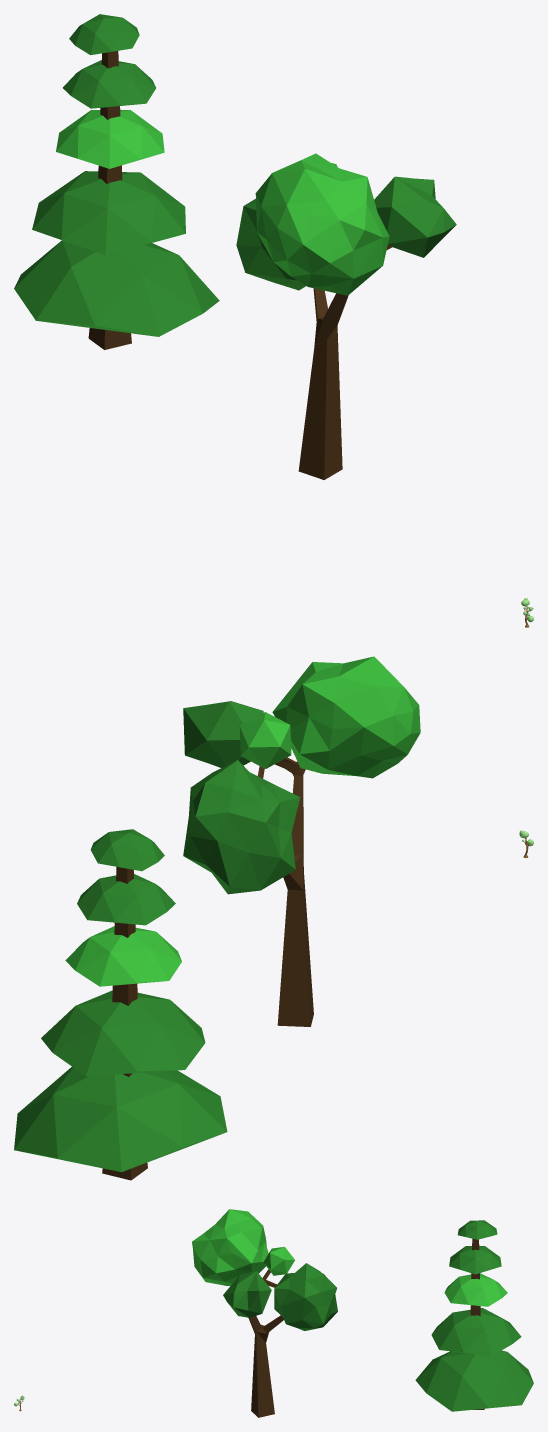
The model's file is tree.glb.
3 views of the same model, one above another, from view 1: azimuth 30°, elevation 25°; view 2: azimuth 150°, elevation 25°; view 3: azimuth 270°, elevation 25° (orthographic). The views are drawn at different scales.
Visible parts, largest first — view 1: Icosphere.005, Icosphere.004, Icosphere.006, Cube, Icosphere.007, Icosphere.003, Icosphere.008, Icosphere.001, Icosphere.009, PLANE; view 2: Icosphere.005, Icosphere.004, Icosphere.001, Icosphere.006, Cube, Icosphere.007, Icosphere.003, Icosphere.008, Icosphere.002, Icosphere.009, PLANE; view 3: Icosphere.005, Icosphere.004, Icosphere.001, Icosphere.006, Cube, Icosphere.003, Icosphere.007, Icosphere.008, Icosphere.002, Icosphere.009, PLANE.
Boxes of the visible parts, x1=… form: Icosphere.005: x1=14, y1=240, x2=219, y2=336; Icosphere.004: x1=255, y1=153, x2=389, y2=295; Icosphere.006: x1=32, y1=171, x2=185, y2=255; Cube: x1=298, y1=245, x2=392, y2=479; Icosphere.007: x1=56, y1=110, x2=164, y2=168; Icosphere.003: x1=374, y1=176, x2=456, y2=257; Icosphere.008: x1=63, y1=60, x2=155, y2=108; Icosphere.001: x1=236, y1=198, x2=305, y2=290; Icosphere.009: x1=69, y1=14, x2=139, y2=55; PLANE: x1=88, y1=51, x2=131, y2=349; Icosphere.005: x1=14, y1=1067, x2=227, y2=1172; Icosphere.004: x1=272, y1=656, x2=420, y2=778; Icosphere.001: x1=183, y1=760, x2=300, y2=894; Icosphere.006: x1=41, y1=990, x2=205, y2=1076; Cube: x1=257, y1=757, x2=313, y2=1026; Icosphere.007: x1=65, y1=926, x2=181, y2=986; Icosphere.003: x1=183, y1=701, x2=263, y2=767; Icosphere.008: x1=77, y1=874, x2=175, y2=925; Icosphere.002: x1=239, y1=712, x2=291, y2=768; Icosphere.009: x1=90, y1=829, x2=164, y2=871; PLANE: x1=102, y1=867, x2=147, y2=1180; Icosphere.005: x1=415, y1=1350, x2=533, y2=1411; Icosphere.004: x1=192, y1=1209, x2=268, y2=1285; Icosphere.001: x1=274, y1=1263, x2=337, y2=1330; Icosphere.006: x1=431, y1=1308, x2=521, y2=1355; Cube: x1=248, y1=1269, x2=283, y2=1417; Icosphere.003: x1=223, y1=1271, x2=271, y2=1317; Icosphere.007: x1=444, y1=1273, x2=507, y2=1306; Icosphere.008: x1=449, y1=1246, x2=501, y2=1274; Icosphere.002: x1=263, y1=1246, x2=294, y2=1275; Icosphere.009: x1=457, y1=1220, x2=497, y2=1239; PLANE: x1=470, y1=1238, x2=484, y2=1409.
Bounding box in the file's own units: 5.81 × 8.45 × 20.8.
